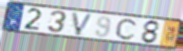2: (24, 8, 44, 32)
3: (46, 10, 68, 34)
8: (141, 19, 161, 45)
9: (94, 15, 114, 39)
C: (114, 18, 140, 41)
V: (71, 11, 95, 37)
